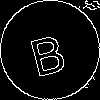B: (25, 25, 69, 77)
